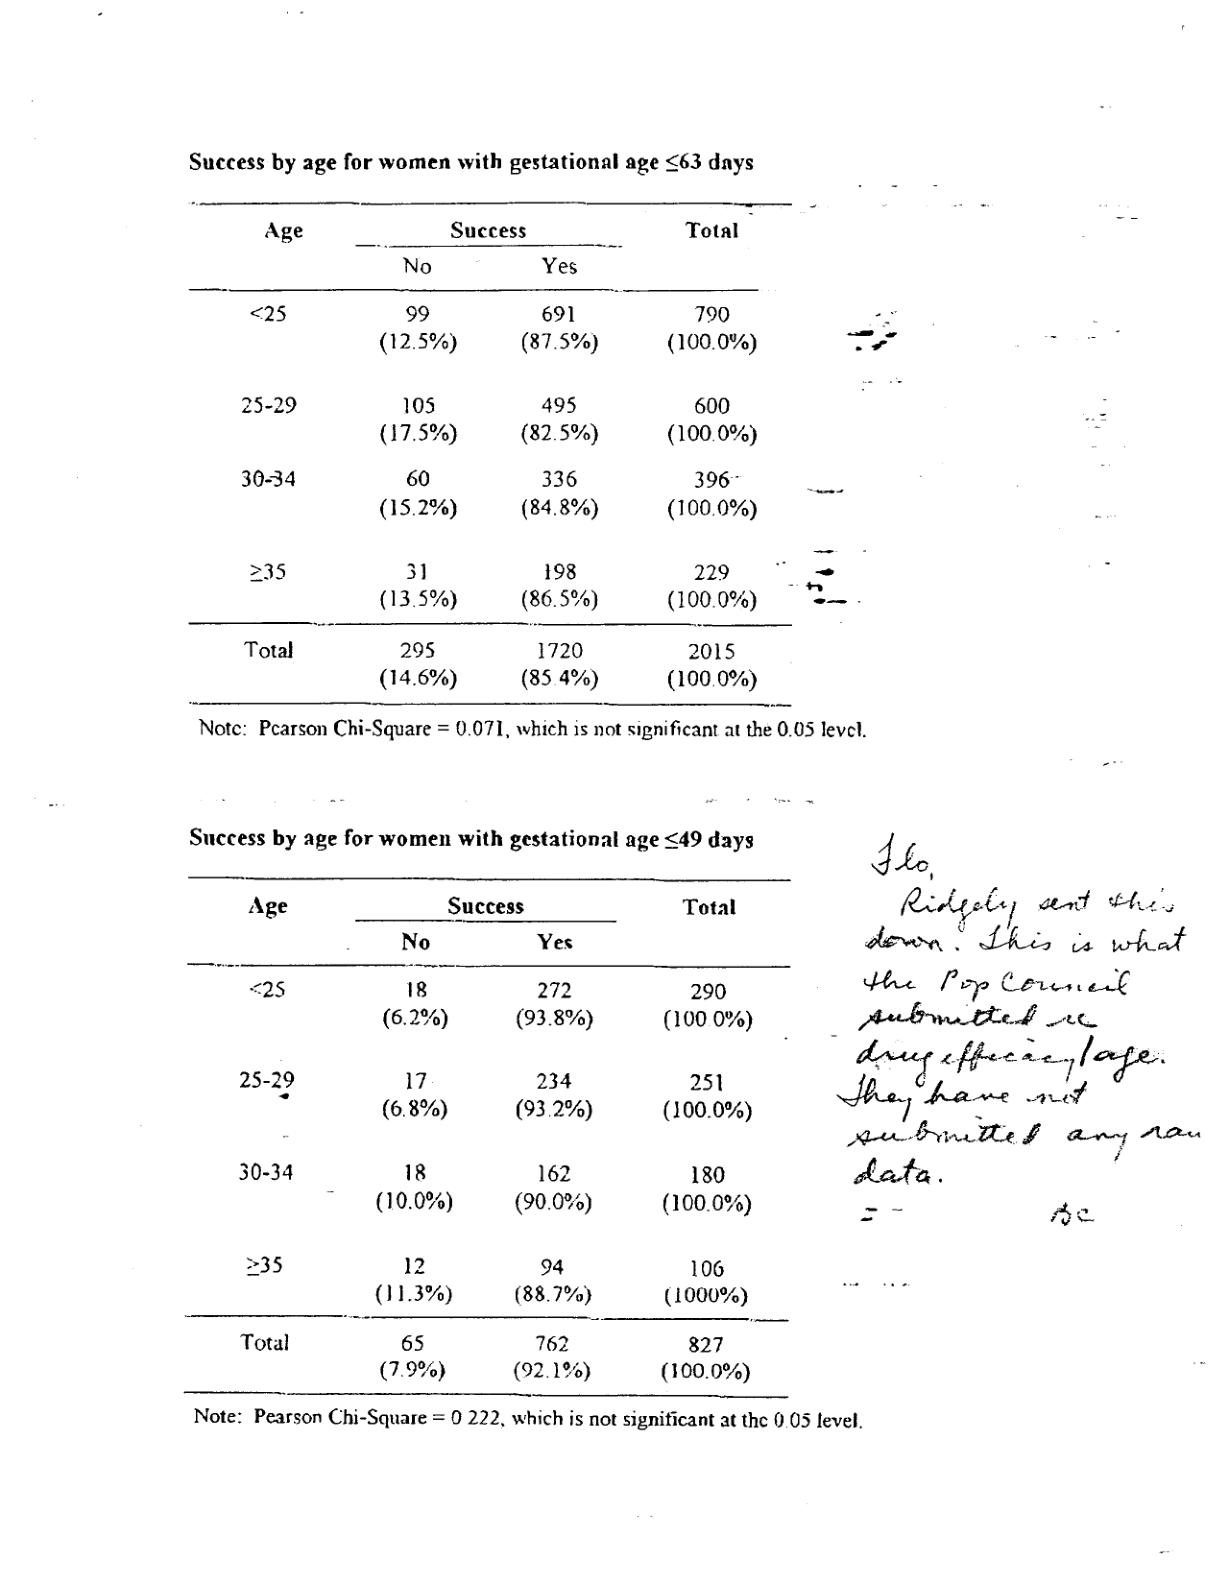partial_lined_merged_cells: (181, 873, 795, 1401), (183, 201, 795, 708)
